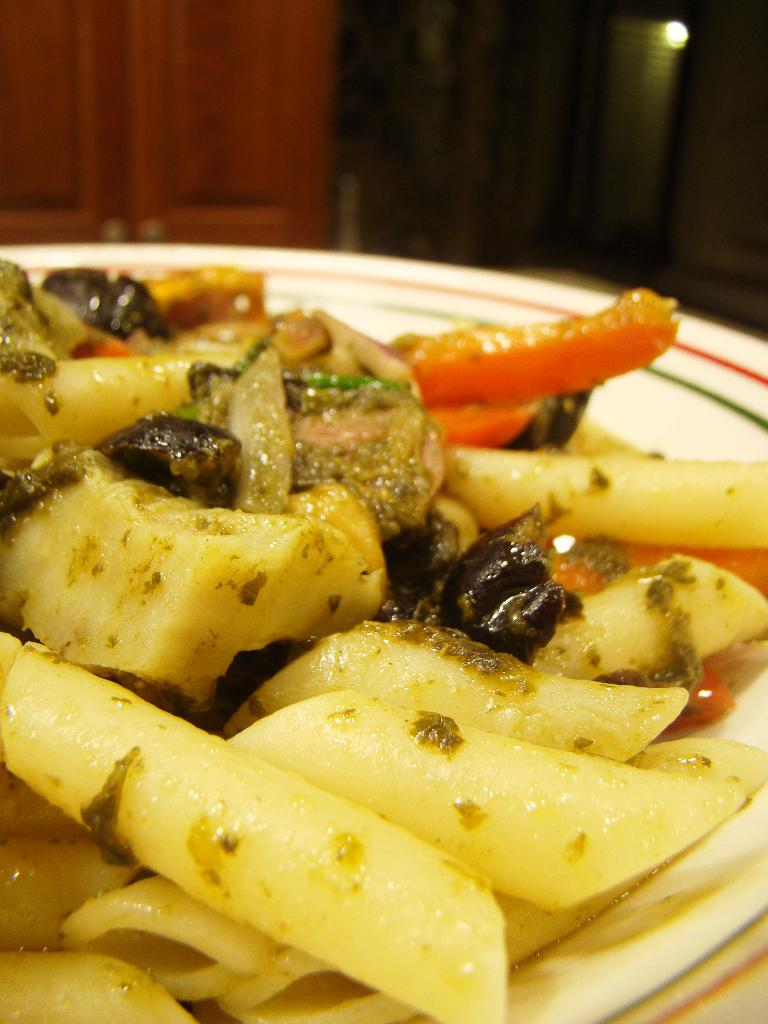pasta: (0, 260, 767, 1023)
